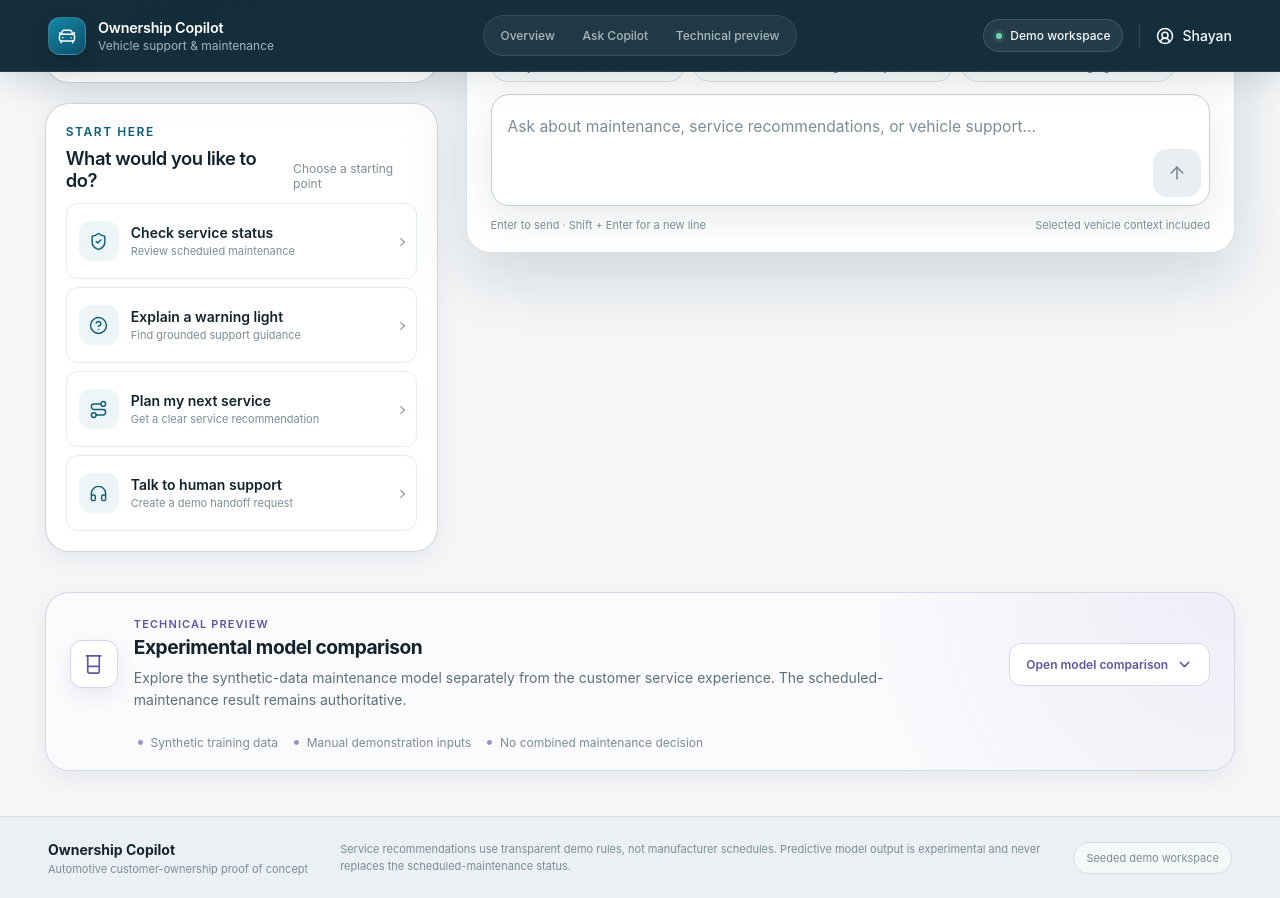
Scenario: App › keeps the technical preview separate and opens all eight empty fields
The width and height of the screenshot is (1280, 898).
(page scrolled)
Click the button "Open model comparison" at (1110, 664), box [1009, 643, 1210, 686]
(page scrolled)
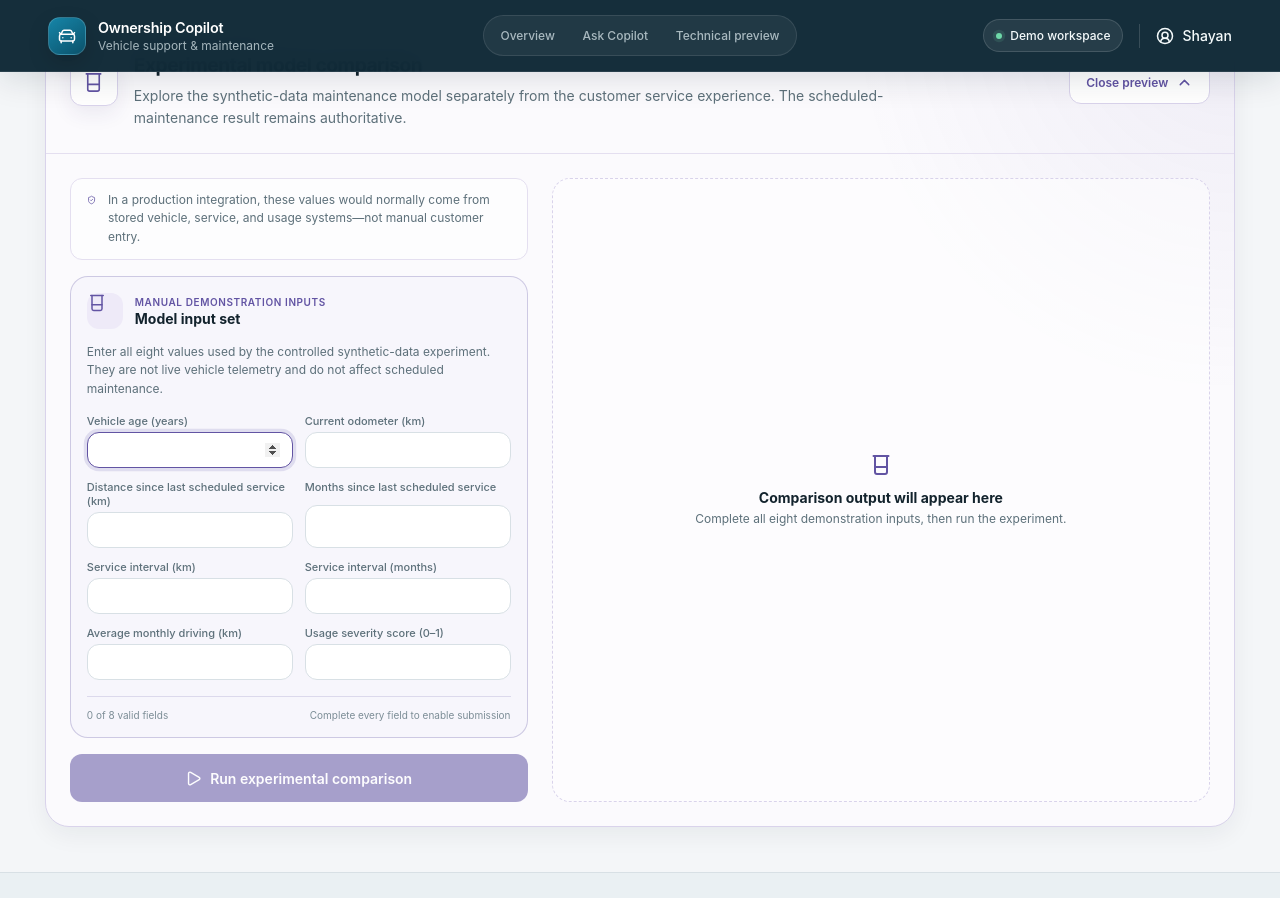
expect the heading "Model input set" is shown: met, box [135, 310, 240, 327]
expect the text "not manual customer entry" is shown: met, box [108, 192, 490, 244]
expect the text "not live vehicle telemetry" is shown: met, box [87, 344, 490, 396]
